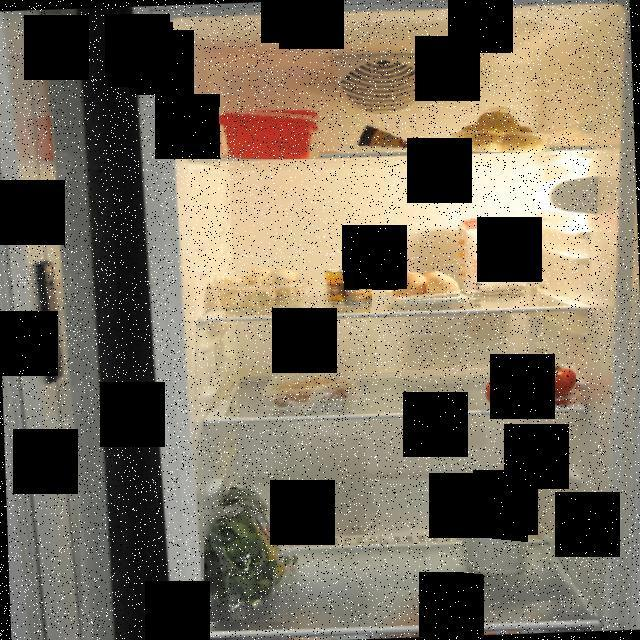butter: (213, 106, 320, 159)
cheese: (351, 121, 426, 152)
corn: (322, 264, 372, 308)
eggs: (392, 270, 460, 302)
mushrooms: (212, 263, 306, 309)
shrimp: (266, 374, 354, 412)
spinach: (204, 478, 300, 622)
sugar: (456, 486, 528, 575), (451, 218, 530, 298)
sweet_potato: (449, 103, 553, 152)
tomato: (479, 364, 576, 408)
